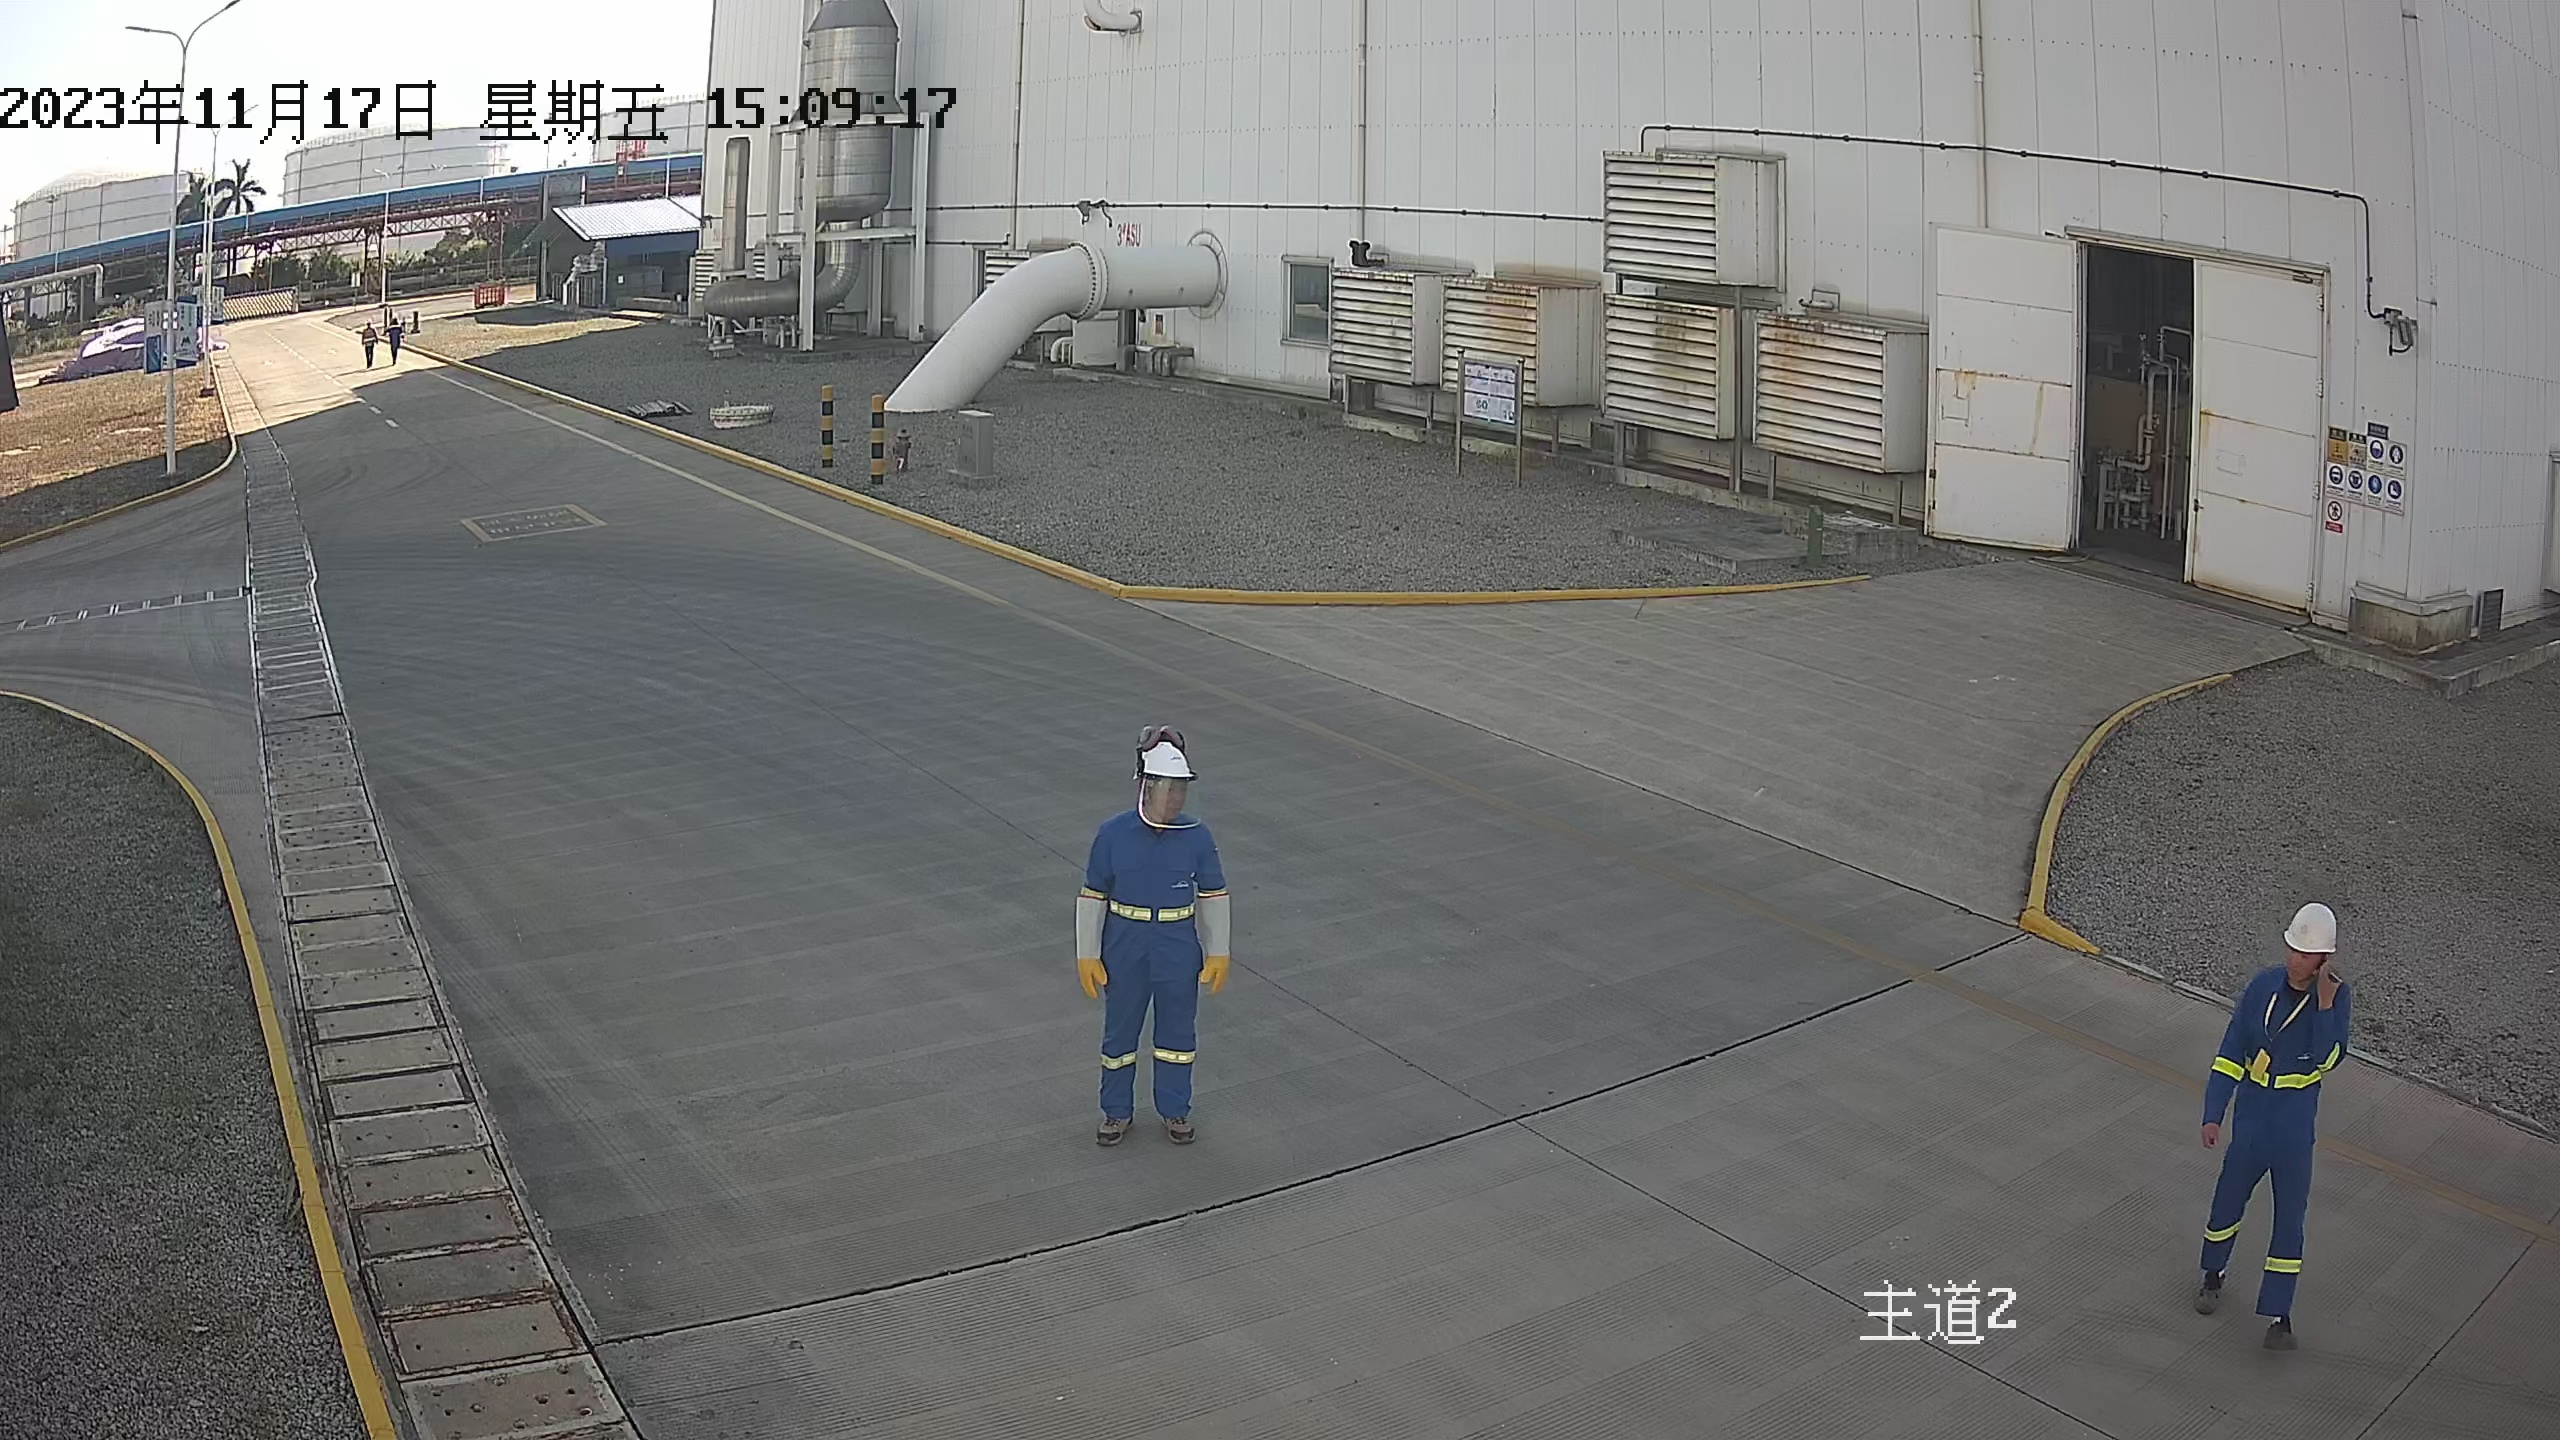Body_without_uniform: (353, 323, 384, 373), (384, 323, 409, 371)
Head_with_Helmet: (1099, 712, 1229, 843), (2244, 880, 2367, 994), (388, 311, 406, 325), (361, 315, 376, 328)
Uniform: (2166, 966, 2402, 1387), (1053, 801, 1270, 1171)
